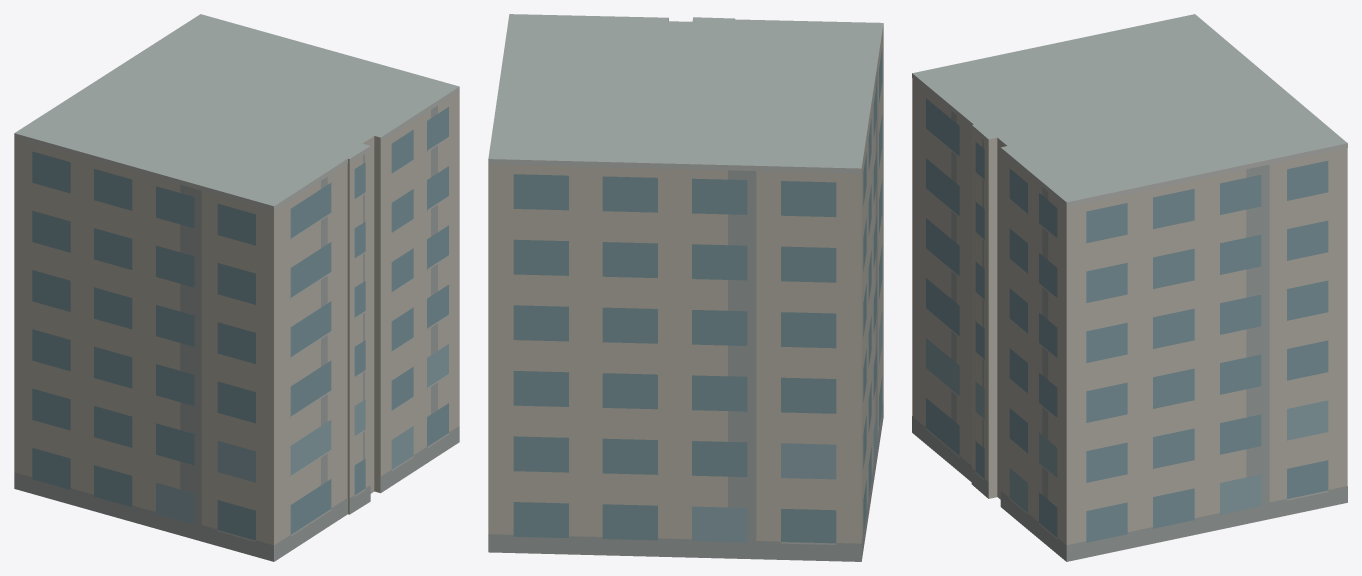
Rendered from survey-upis-32698837.glb.
3 renders of one model, left to right at view 1: azimuth 30°, elevation 25°; view 2: azimuth 150°, elevation 25°; view 3: azimuth 270°, elevation 25°, orthographic. The views are drawn at different scales.
Visible parts, largest first — view 1: survey-upis-32698837.tmp; view 2: survey-upis-32698837.tmp; view 3: survey-upis-32698837.tmp.
Part boxes in pixels (x1,y1,x2,y2): survey-upis-32698837.tmp: (14,14,459,561); survey-upis-32698837.tmp: (488,14,883,561); survey-upis-32698837.tmp: (912,14,1347,561).
Size of the model in its own units: 20.58 by 18.3 by 20.11.
